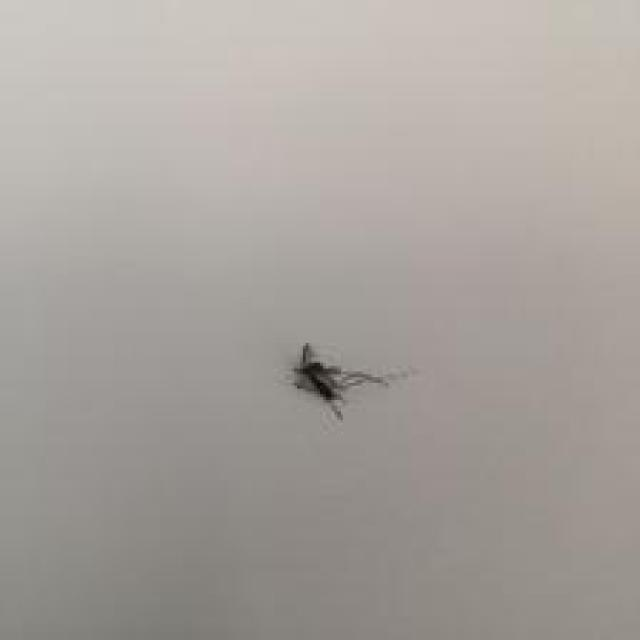Aedes albopictus: (287, 342, 390, 422)
